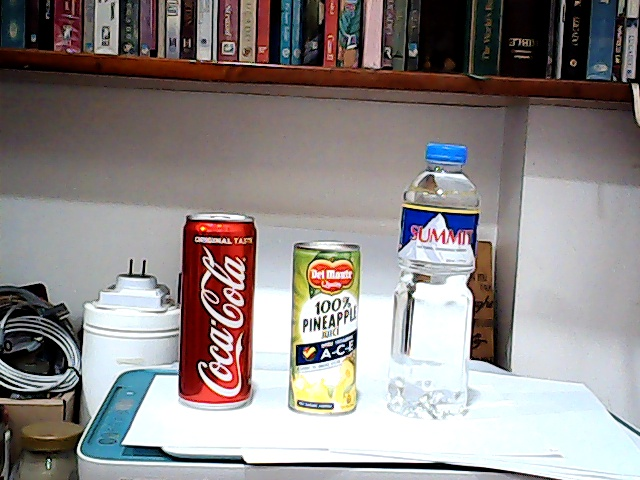Cola: (165, 205, 261, 410)
Pine Juice: (285, 237, 361, 422)
Summit Water: (383, 132, 477, 430)
